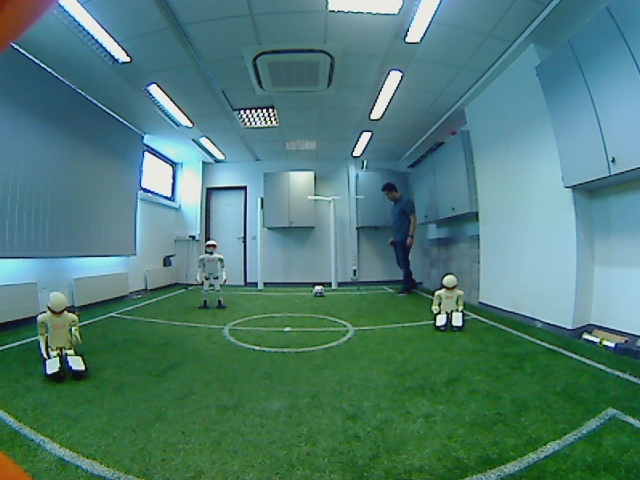ball: (306, 281, 328, 301)
robot: (26, 291, 88, 385), (192, 237, 230, 314), (429, 273, 466, 335)
